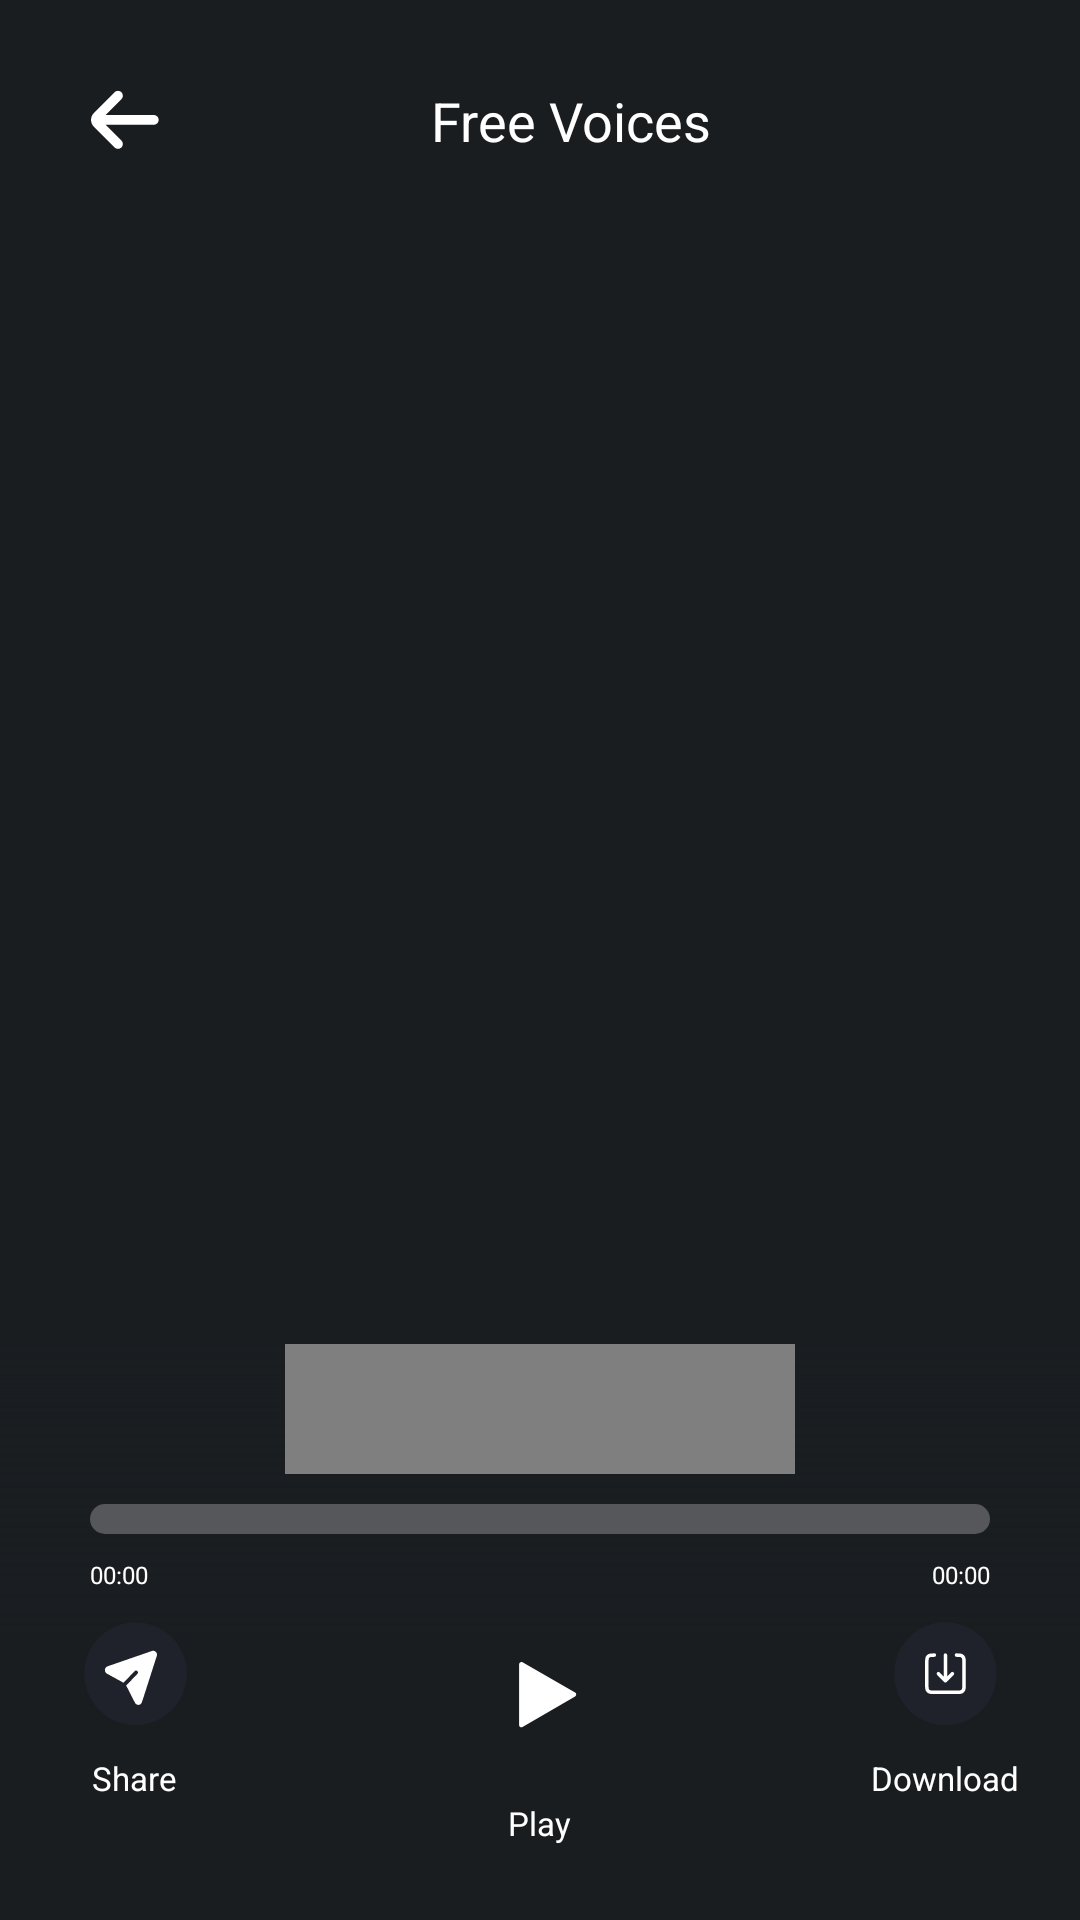

Screen size 1080 x 1920. Icon name, then its box in pixels as (x1, y1, x2, y2):
backicon: (91, 91, 159, 149)
